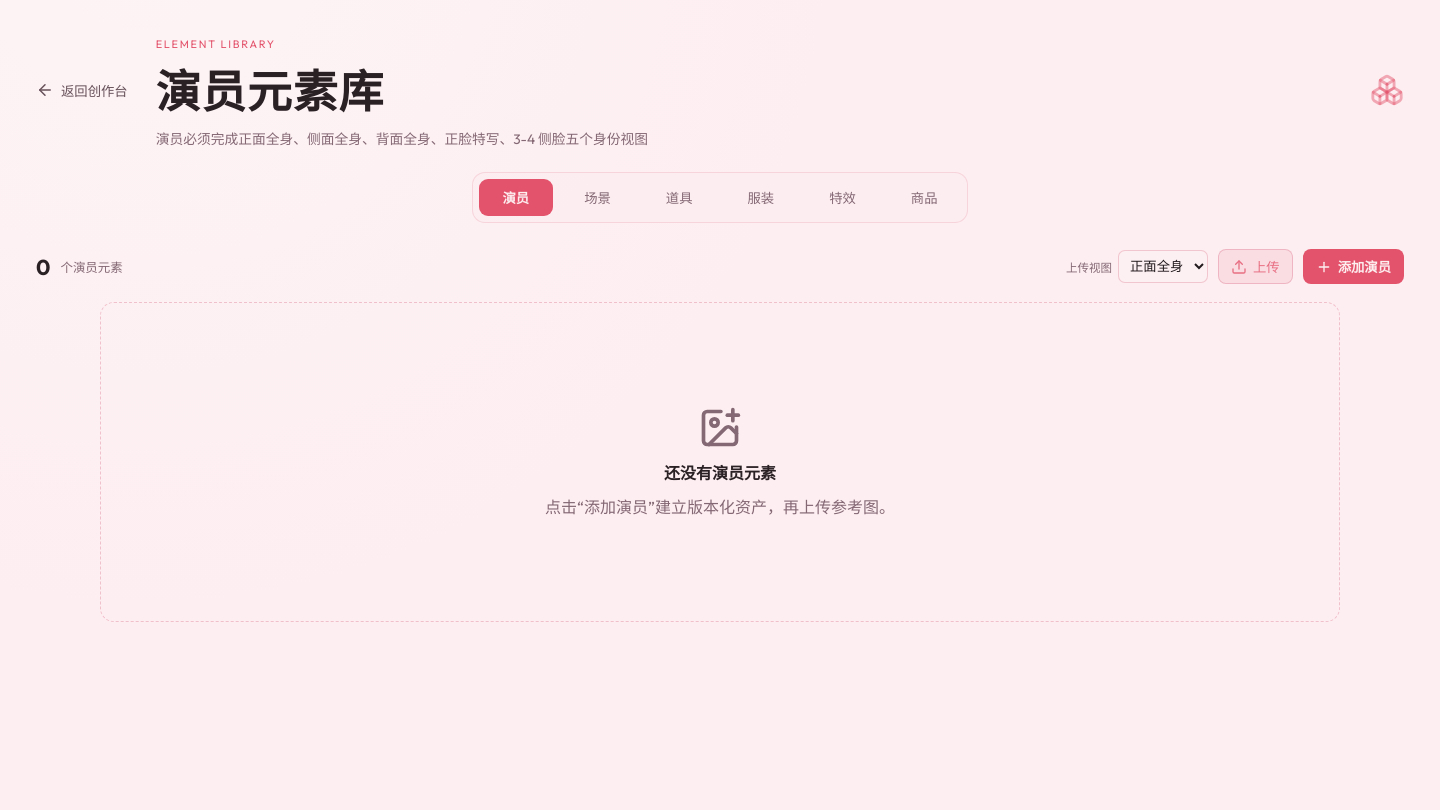
Test: derived looks and products in the element library › has a product page whose assets are uploaded photos
Click the tab "商品".
click(924, 198)  # box [887,179,962,216]
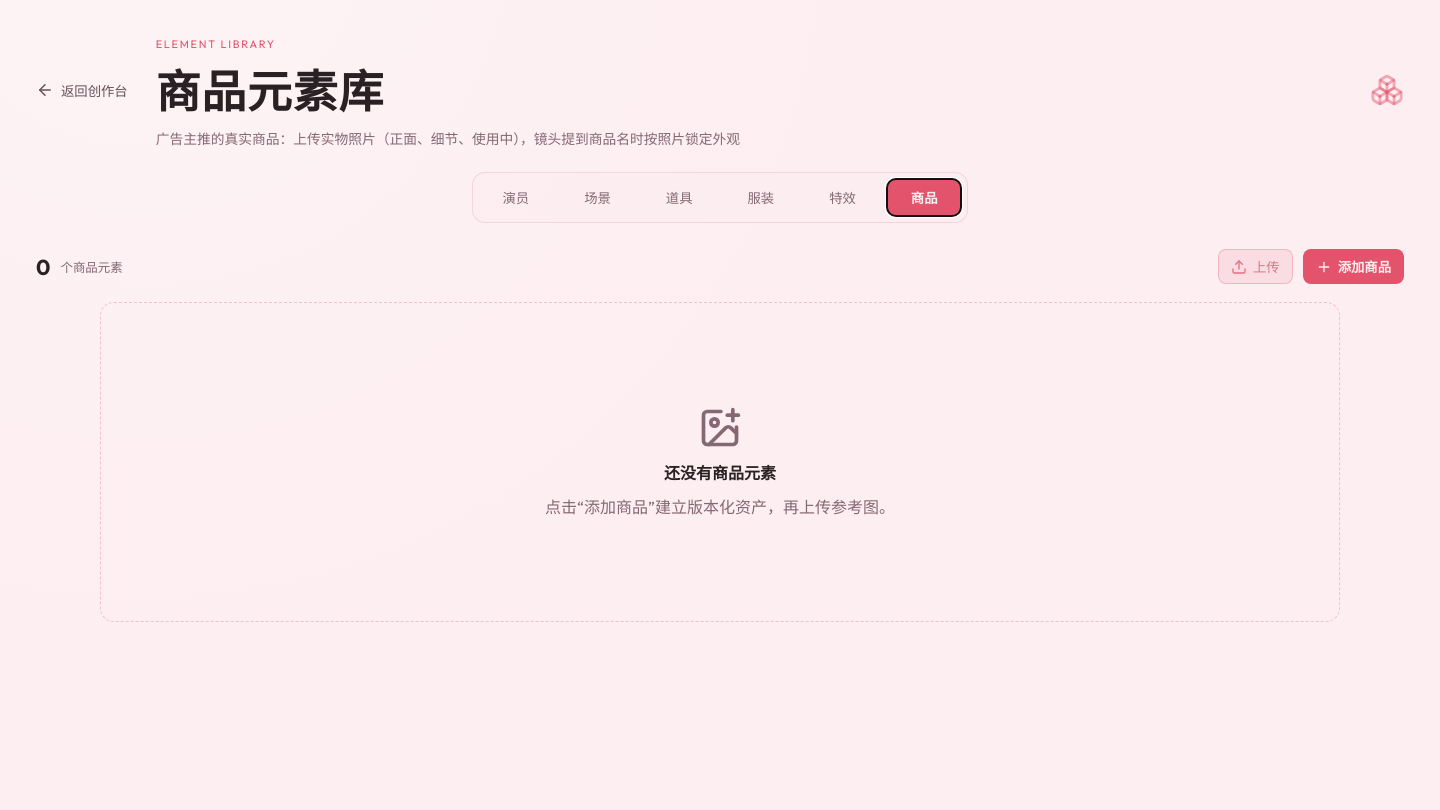
Expected: the heading "商品元素库" is shown, [156,63,384,120]
Expected: the text "广告主推的真实商品：上传实物照片（正面、细节、使用中），镜头提到商品名时按照片锁定外观" is shown, [156,130,740,148]
Expected: the button "添加商品" is shown, [1303,249,1404,284]
